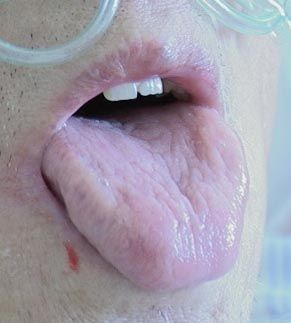liewenshe: (116, 120, 212, 227)
